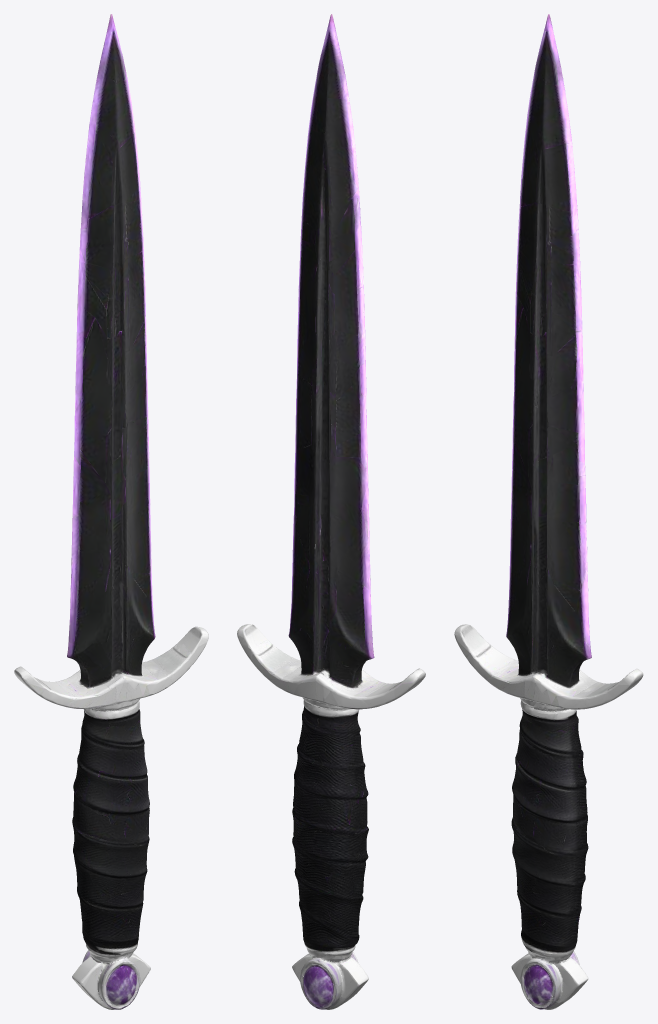
The picture shows the model from 3 angles, left to right: view 1: azimuth 30°, elevation 25°; view 2: azimuth 150°, elevation 25°; view 3: azimuth 330°, elevation 25°; orthographic projection.
Parts seen in each view (by area): view 1: Mesh_0; view 2: Mesh_0; view 3: Mesh_0.
Part boxes in pixels (x1,y1,x2,y2): Mesh_0: (14, 14, 208, 1009); Mesh_0: (237, 14, 425, 1009); Mesh_0: (454, 14, 643, 1009).
Size of the model in its own units: 0.3694 by 1.9 by 0.1106.
Materials: 1 (1 with a texture image).
